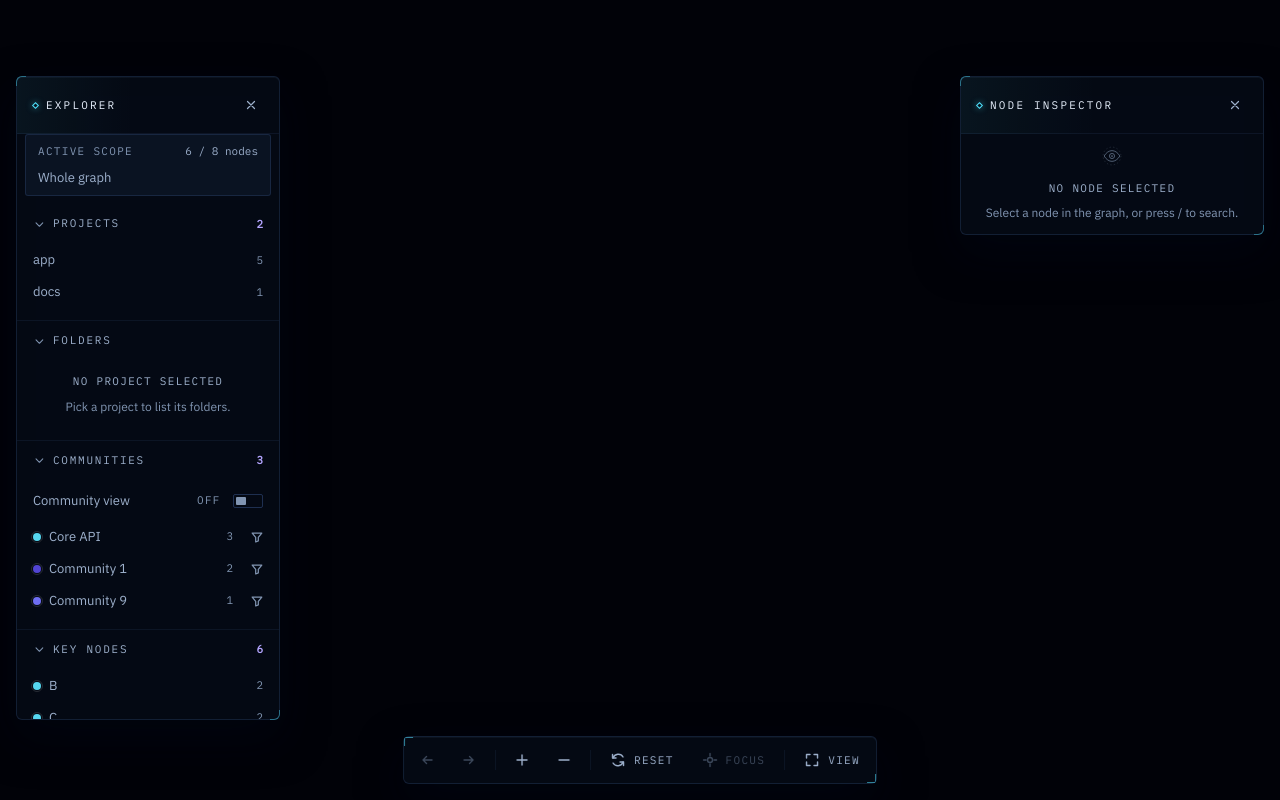
Scenario: communities in the interface › a click on an aggregate selects its community, not the node that stands for it
This screenshot has width=1280, height=800.
What coordinates should you click on to do the following:
click the switch labelled "Community view OFF"
I would click on:
 (148, 500)
Its box is 25,480 -> 271,520.
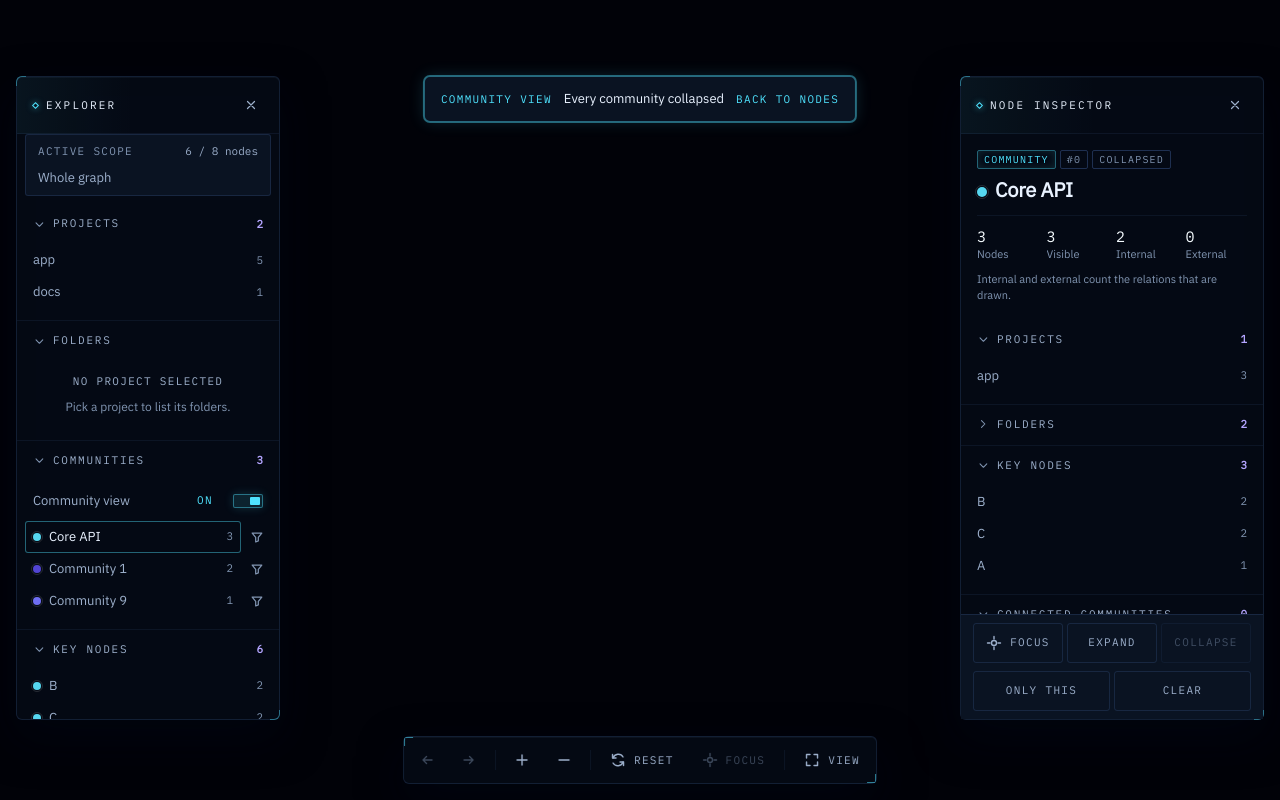
Result: the text "Core API" is shown at 977,176 -> 1073,203
